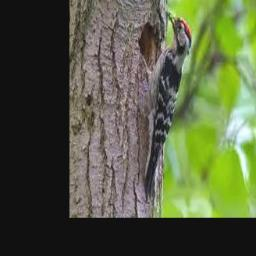Woodpecker: (139, 10, 191, 200)
